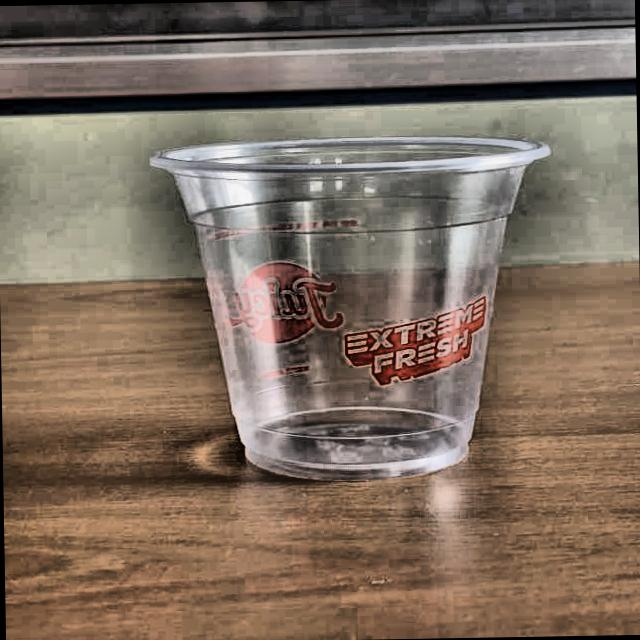plastic cup: (147, 130, 560, 488)
